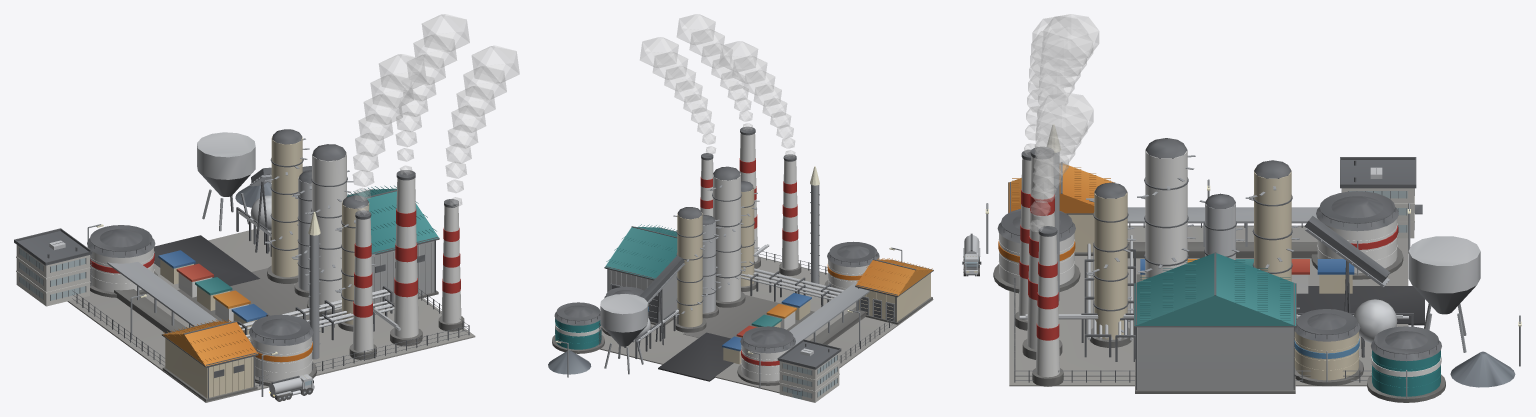
The model's file is Refinery_P3.fbx.
3 views of the same model, side by side, from view 1: azimuth 30°, elevation 25°; view 2: azimuth 150°, elevation 25°; view 3: azimuth 270°, elevation 25° (orthographic). The views are drawn at different scales.
Visible parts, largest first — view 1: Refinery.Pad, Refinery.Shed, Refinery.Smoke1, Refinery.Smoke2, Refinery.Office, Refinery.Smoke0, Refinery.Col2, Refinery.Col0, Refinery.Hall, Refinery.Stack0, Refinery.Tank3, Refinery.Tank0 (+16 smaller); view 2: Refinery.Pad, Refinery.Hall, Refinery.Shed, Refinery.Col2, Refinery.Col0, Refinery.Office, Refinery.Smoke2, Refinery.Smoke1, Refinery.Smoke0, Refinery.Tank0, Refinery.Tank1, Refinery.Intake (+15 smaller); view 3: Refinery.Hall, Refinery.Pad, Refinery.Col2, Refinery.Col3, Refinery.Tank1, Refinery.Tank0, Refinery.Intake, Refinery.Smoke2, Refinery.Tank2, Refinery.Col0, Refinery.Smoke0, Refinery.Office (+18 smaller).
Boxes of the visible parts, x1,y1,x2,y2 form: Refinery.Pad: [67, 228, 475, 402]; Refinery.Shed: [161, 319, 258, 401]; Refinery.Smoke1: [353, 54, 426, 215]; Refinery.Smoke2: [445, 46, 519, 206]; Refinery.Office: [14, 228, 92, 306]; Refinery.Smoke0: [396, 14, 469, 175]; Refinery.Col2: [305, 144, 353, 317]; Refinery.Col0: [264, 129, 309, 283]; Refinery.Hall: [347, 185, 439, 306]; Refinery.Stack0: [390, 170, 422, 346]; Refinery.Tank3: [249, 314, 316, 386]; Refinery.Tank0: [87, 225, 157, 297]; Refinery.Pad: [600, 257, 933, 393]; Refinery.Hall: [604, 224, 677, 326]; Refinery.Shed: [855, 258, 933, 324]; Refinery.Col2: [707, 166, 746, 307]; Refinery.Col0: [673, 207, 708, 332]; Refinery.Office: [777, 339, 841, 402]; Refinery.Smoke2: [640, 37, 715, 153]; Refinery.Smoke1: [719, 41, 795, 157]; Refinery.Smoke0: [677, 14, 752, 130]; Refinery.Tank0: [737, 326, 795, 385]; Refinery.Tank1: [552, 302, 604, 353]; Refinery.Intake: [600, 294, 647, 374]; Refinery.Hall: [1134, 252, 1296, 393]; Refinery.Pad: [1009, 226, 1424, 386]; Refinery.Col2: [1137, 138, 1195, 279]; Refinery.Col3: [1086, 182, 1135, 347]; Refinery.Tank1: [1367, 326, 1445, 402]; Refinery.Tank0: [1311, 191, 1403, 279]; Refinery.Intake: [1408, 236, 1480, 352]; Refinery.Smoke2: [1029, 92, 1093, 231]; Refinery.Tank2: [1294, 309, 1363, 386]; Refinery.Col0: [1245, 160, 1299, 309]; Refinery.Smoke0: [1035, 14, 1098, 152]; Refinery.Office: [1340, 157, 1422, 238].
Bounding box in the file's own units: 9032 × 7366 × 10089.
